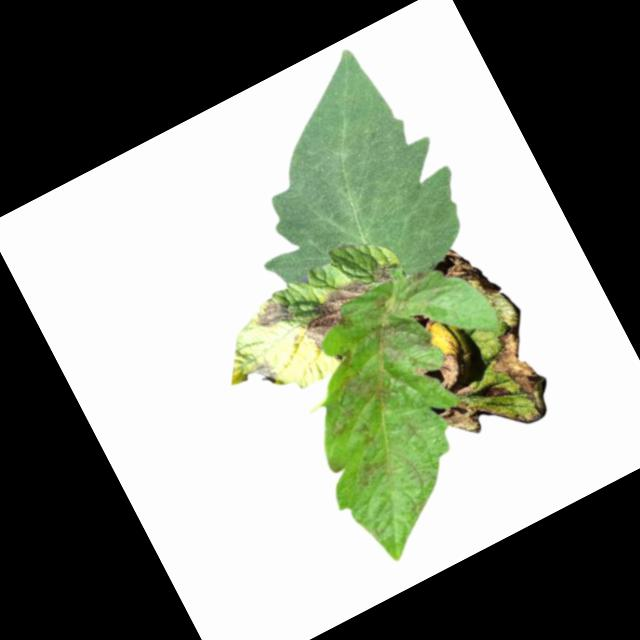Late_blight: (476, 323, 563, 431), (355, 275, 451, 371), (294, 273, 387, 352), (428, 234, 503, 313), (336, 355, 401, 419), (425, 339, 481, 401), (435, 390, 489, 445), (235, 355, 281, 397), (249, 294, 296, 335), (348, 452, 394, 492), (367, 256, 399, 289), (479, 379, 510, 407), (411, 361, 430, 378)
healthy: (192, 31, 487, 335)
